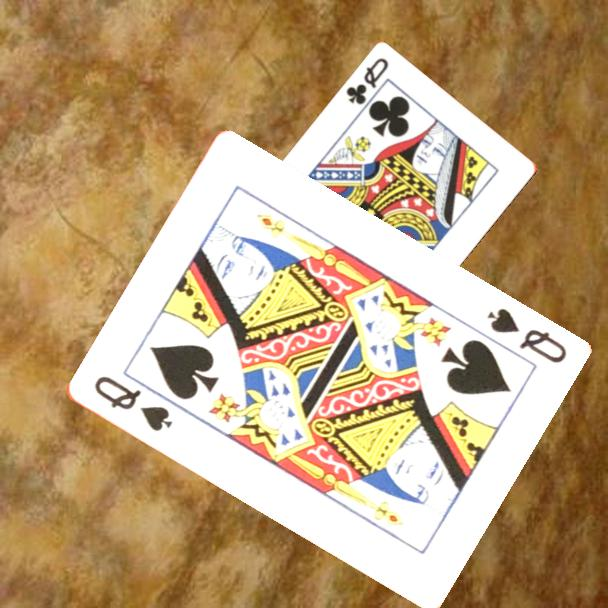c12: (342, 55, 392, 108)
s12: (483, 304, 569, 367), (90, 372, 175, 435)
